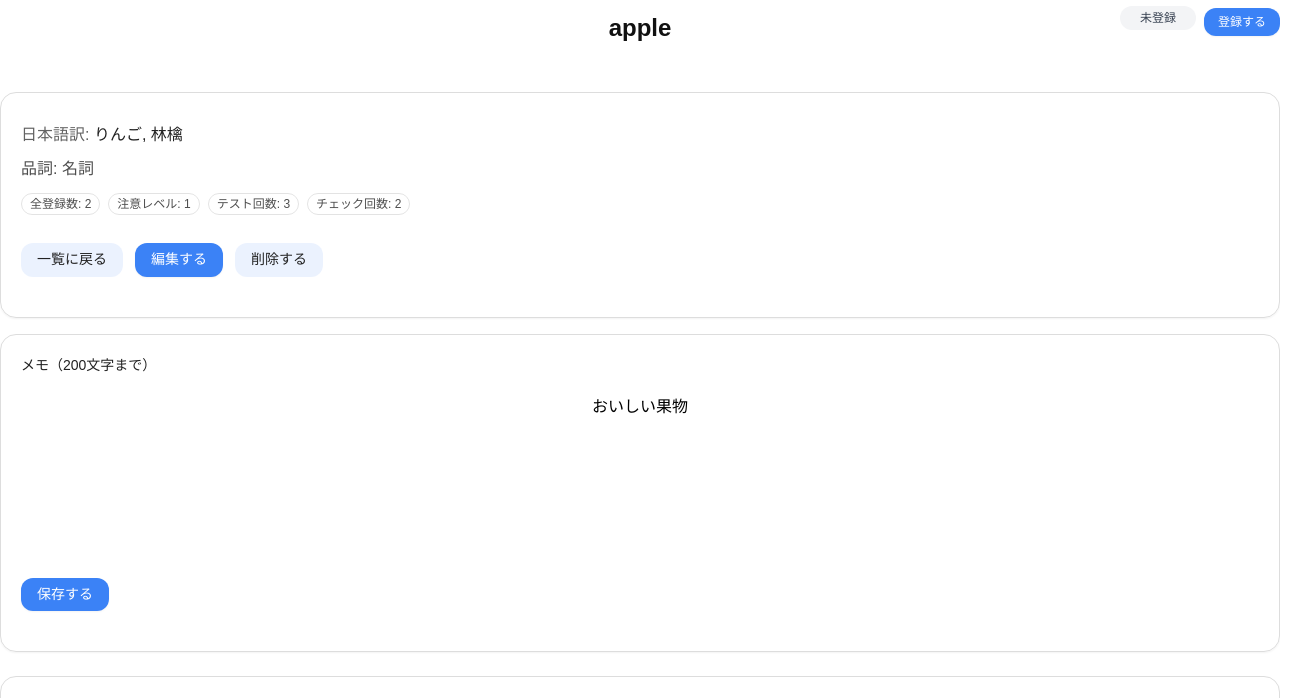
it: WordShow › (6) メモ保存：成功 → API 引数/メッセージ表示
This screenshot has width=1292, height=698.
Expected: the heading "apple" is shown, left=609, top=12, right=671, bottom=44
Replace the text in the text box with "新しいメモ": point(640, 466) left=21, top=382, right=1259, bottom=550
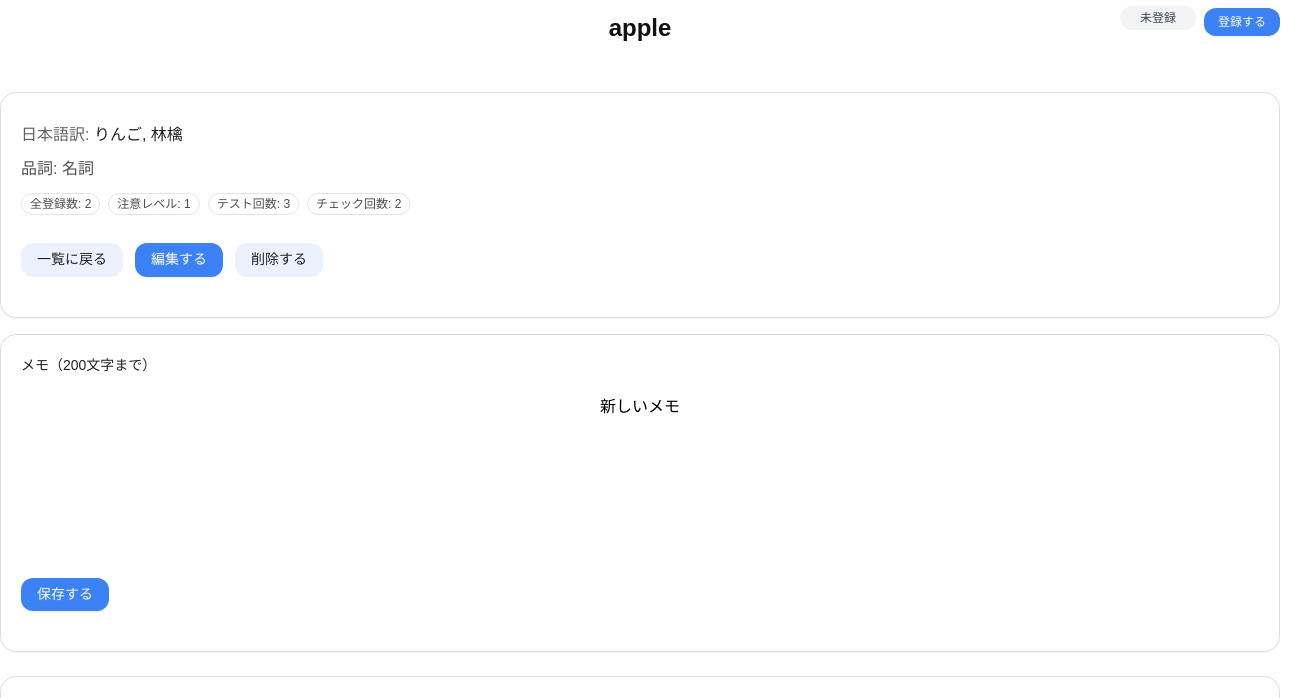
Click the button "保存する": point(65, 594) left=21, top=578, right=109, bottom=611
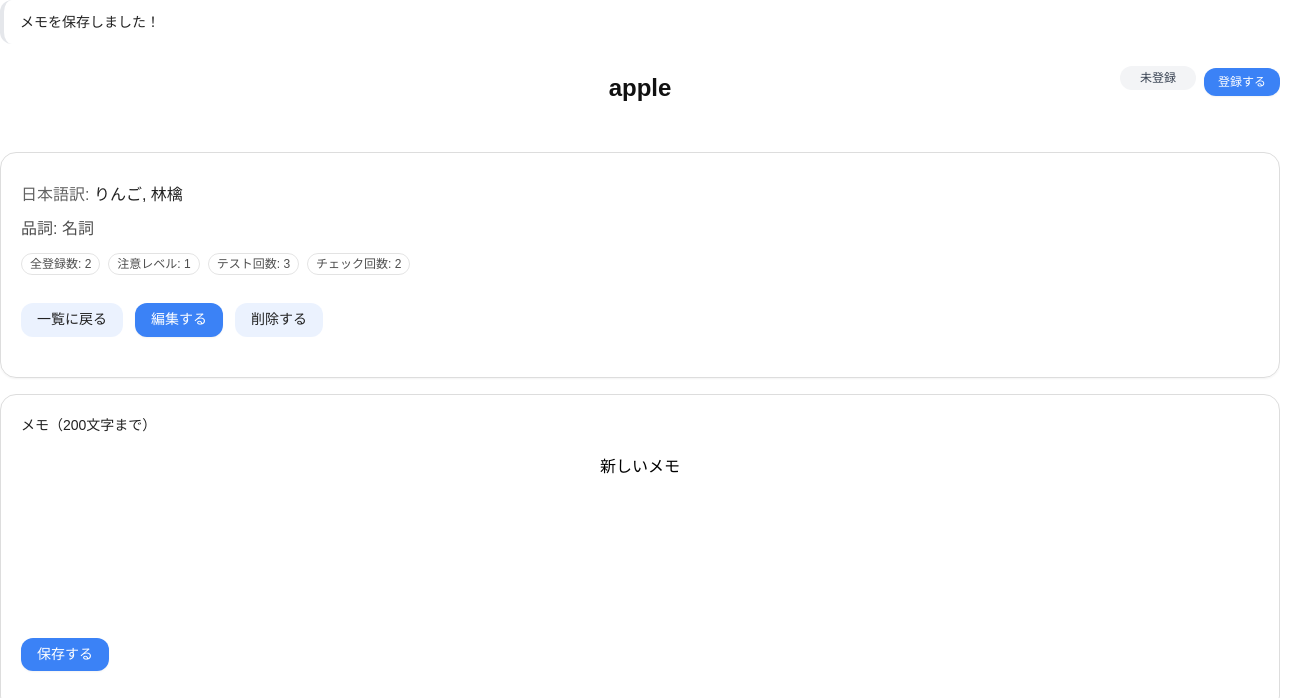
Expected: the text "メモを保存しました！" is shown, left=0, top=0, right=1280, bottom=44
